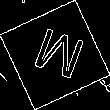M_S: (25, 24, 85, 86)
